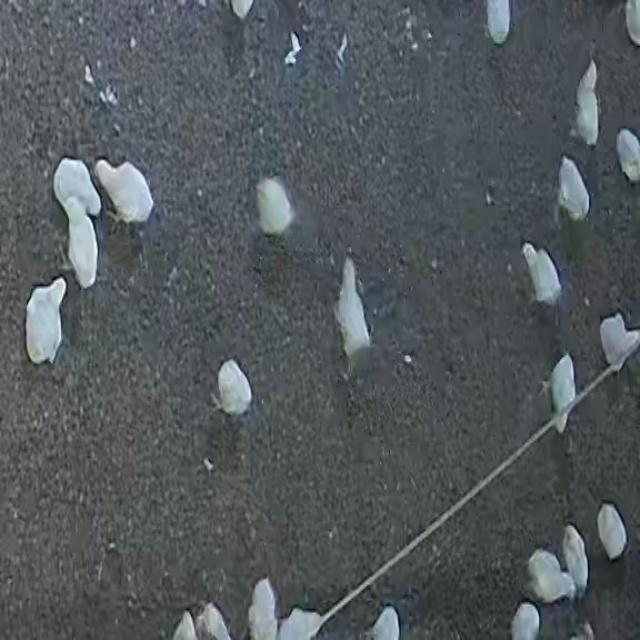chicken: (331, 254, 377, 373), (94, 154, 158, 236), (23, 276, 71, 372), (518, 239, 565, 316), (249, 174, 299, 243), (209, 357, 257, 424), (545, 349, 579, 433), (597, 311, 640, 374), (528, 550, 576, 604), (562, 519, 594, 599), (557, 155, 591, 222), (573, 59, 599, 146), (597, 500, 629, 566)
